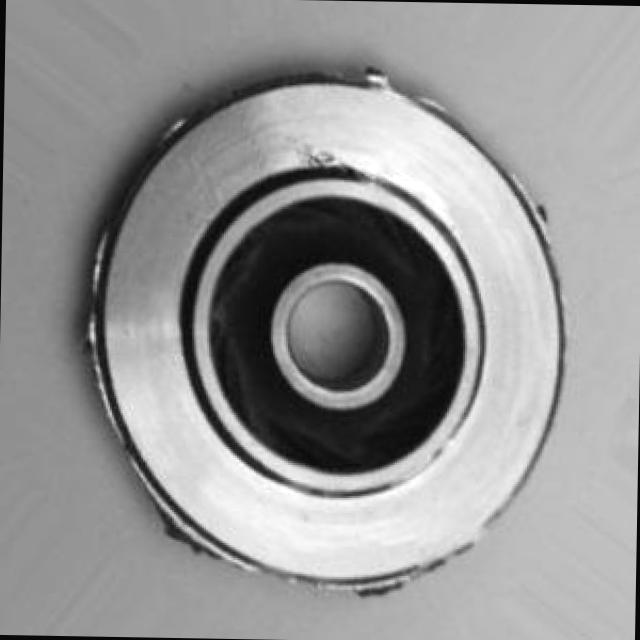Defect: (292, 138, 368, 188)
